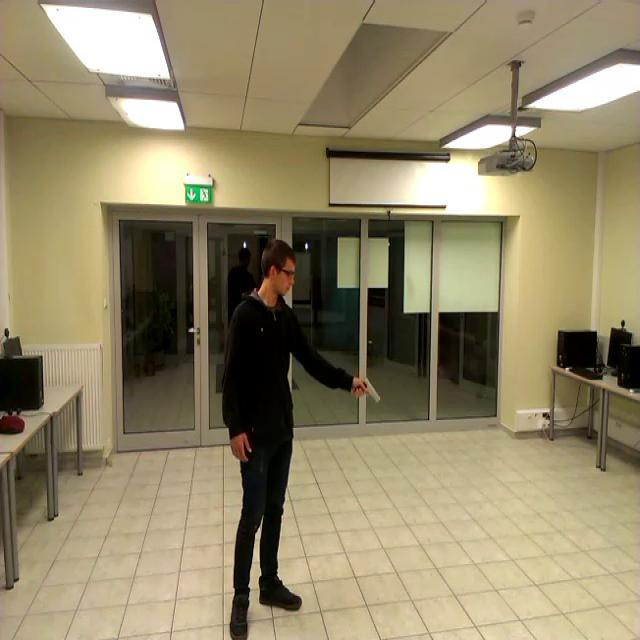Gun: (354, 375, 382, 403)
